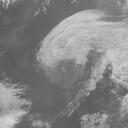cyclone: (36, 8, 127, 83)
